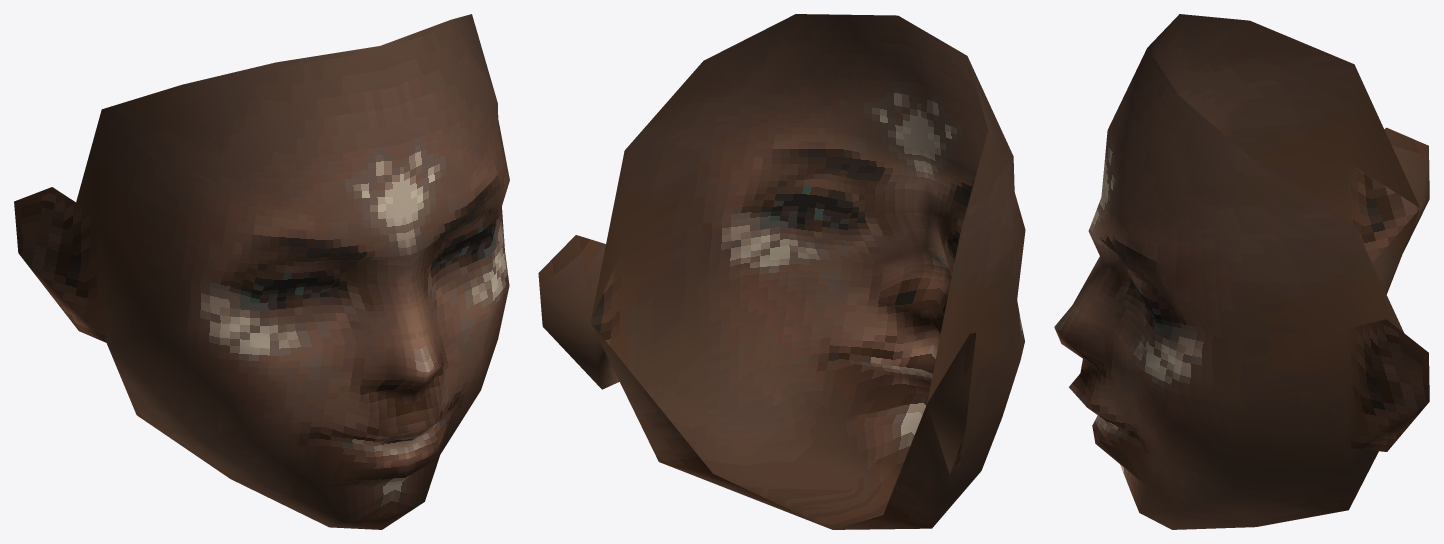
The model's file is f_hair010.glb.
3 renders of one model, left to right at view 1: azimuth 30°, elevation 25°; view 2: azimuth 150°, elevation 25°; view 3: azimuth 270°, elevation 25°, orthographic. The views are drawn at different scales.
Bounding box in the file's own units: 19.4 × 20.74 × 14.88.
1 material, 1 textured.
